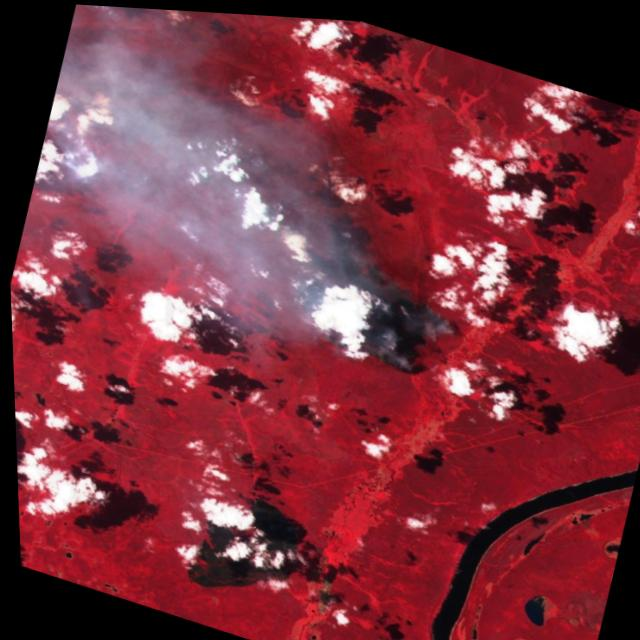fire: (296, 226, 474, 385), (263, 507, 313, 576)
